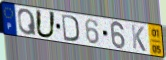6: (110, 21, 127, 50), (84, 18, 101, 46)
D: (60, 13, 80, 43)
K: (130, 24, 148, 53)
Q: (17, 8, 38, 37)
U: (35, 9, 57, 40)
